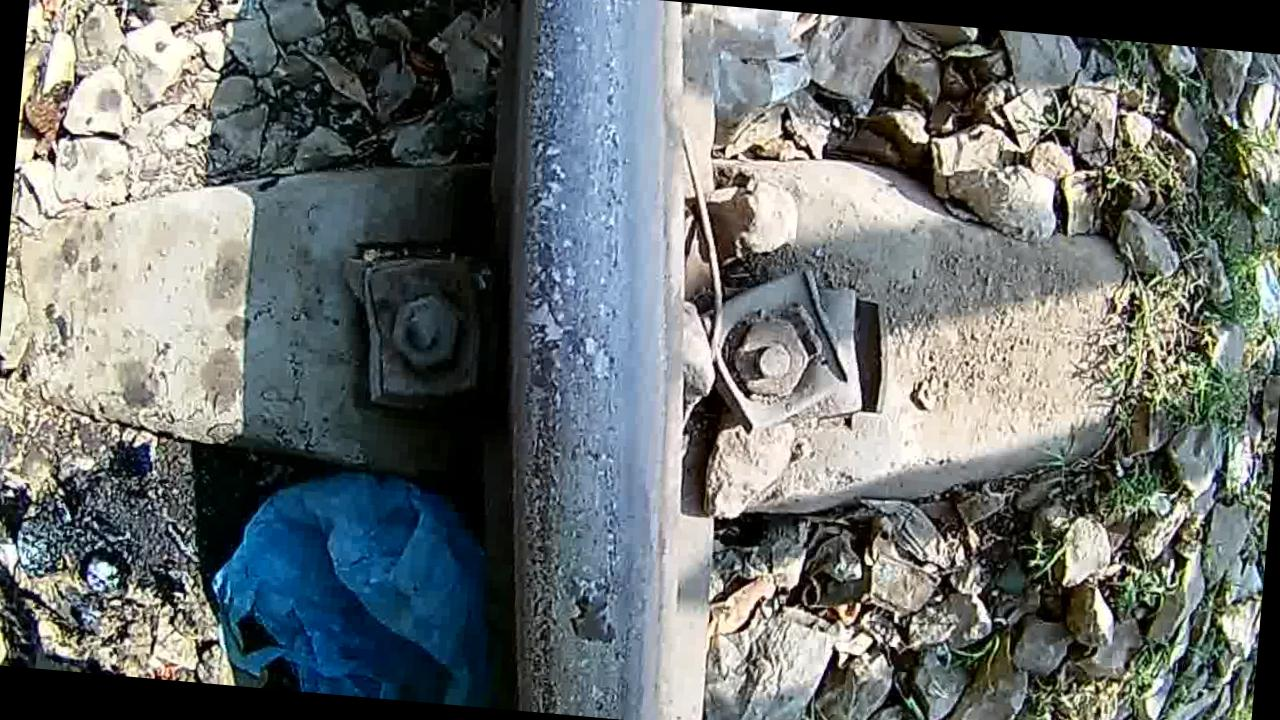crack: (467, 0, 704, 720)
